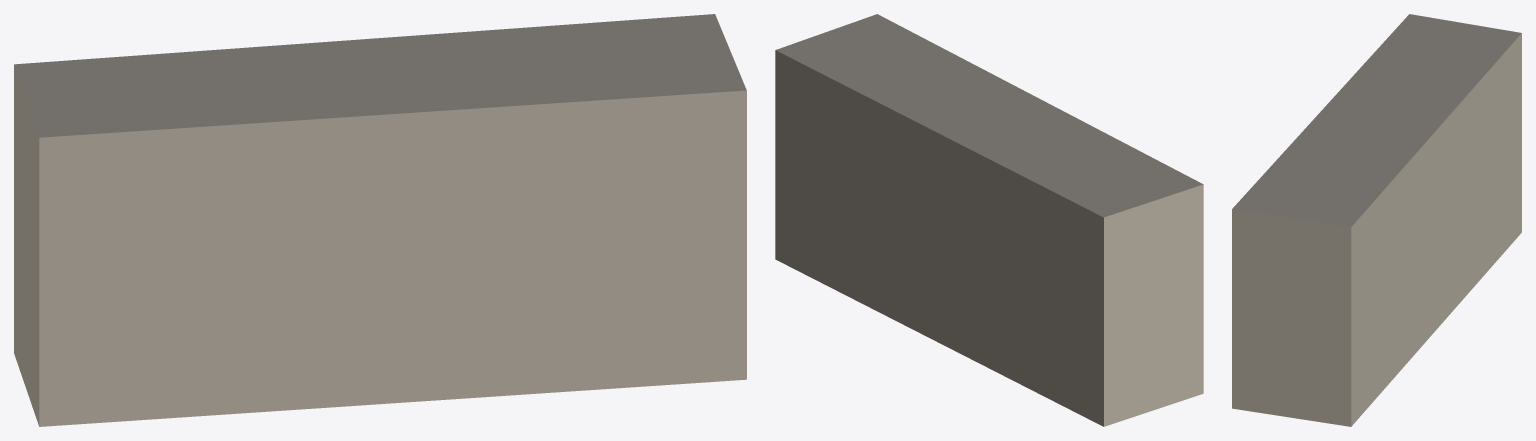
3 renders of one model, left to right at view 1: azimuth 30°, elevation 25°; view 2: azimuth 150°, elevation 25°; view 3: azimuth 270°, elevation 25°, orthographic. The views are drawn at different scales.
Parts seen in each view (by area): view 1: HP-w505636159; view 2: HP-w505636159; view 3: HP-w505636159.
Boxes of the visible parts, x1,y1,x2,y2 form: HP-w505636159: [14, 14, 746, 426]; HP-w505636159: [775, 14, 1203, 426]; HP-w505636159: [1232, 14, 1521, 426].
Size of the model in its own units: 41.27 by 18 by 23.68.
